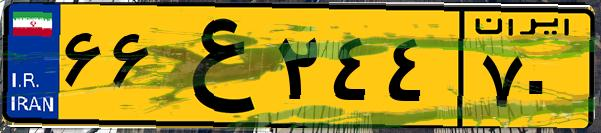0: (525, 38, 570, 115)
2: (270, 28, 330, 110)
4: (385, 28, 445, 110), (330, 28, 385, 110)
6: (57, 26, 110, 100), (110, 28, 158, 98)
7: (475, 38, 525, 113)
ع: (158, 12, 270, 120)
